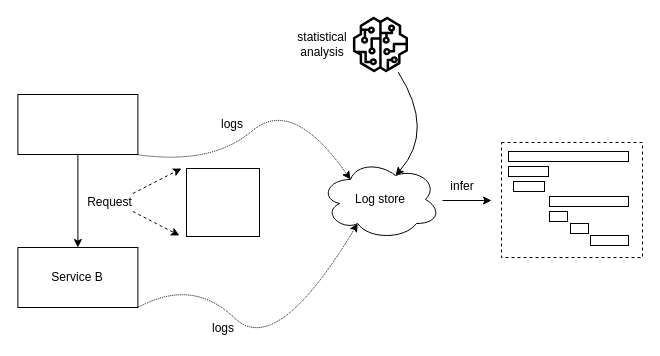
The diagram is 660 pixels wide and 356 high, and some of its shapes have lost their labels. Here are the shapes that lost their labels. From the top down, the box of each, then its label:
(17, 94, 138, 154): Service A
(186, 168, 260, 236): Data
